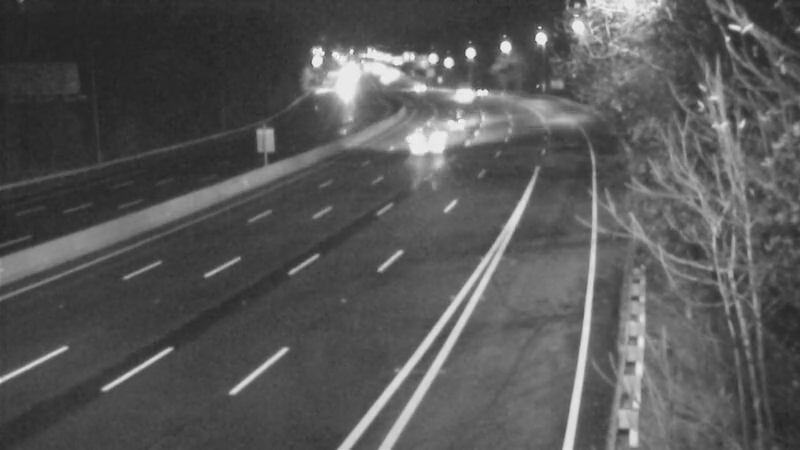vehicle: (395, 58, 445, 108), (459, 69, 509, 119), (438, 71, 488, 121), (427, 99, 477, 149), (400, 116, 450, 166)
